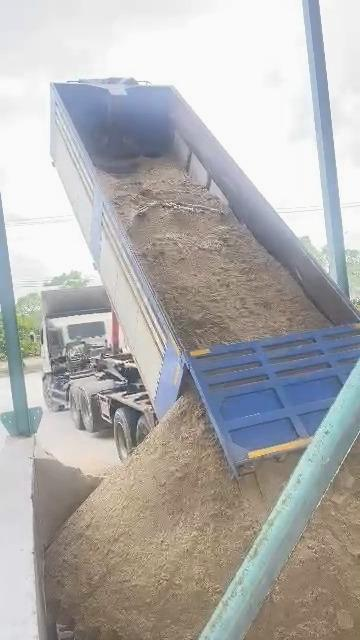sand: (47, 395, 295, 639), (100, 160, 329, 348), (250, 448, 360, 638), (34, 446, 101, 547)
